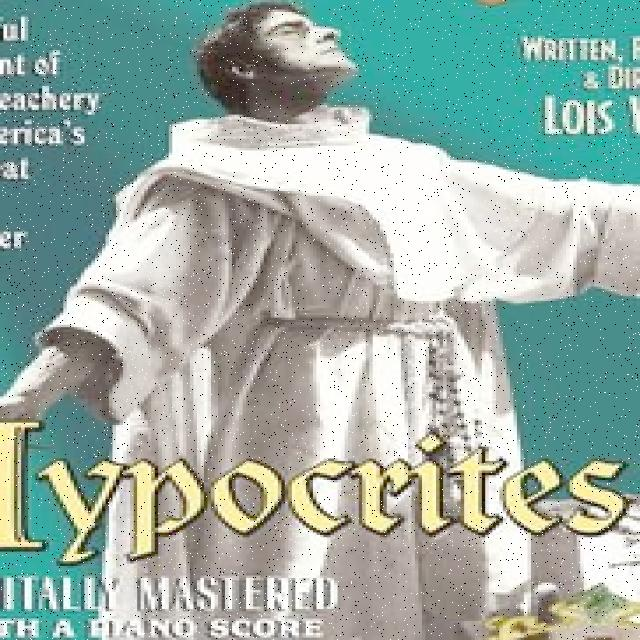movie-judul: (0, 417, 634, 566)
picture: (11, 12, 632, 640)
